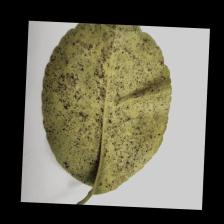canker: (42, 32, 156, 172)
